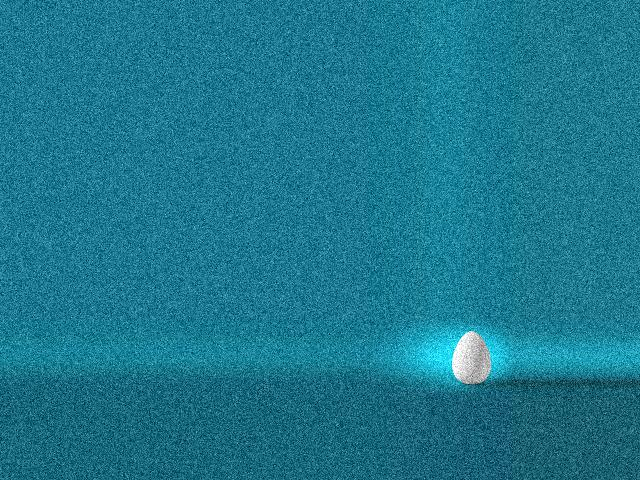egg: (452, 331, 491, 385)
